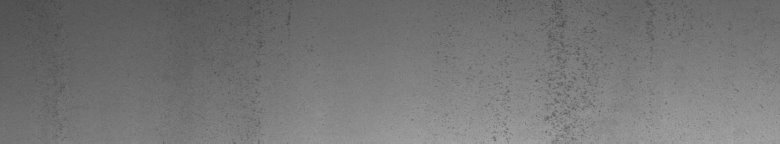ib: (485, 4, 680, 136)
